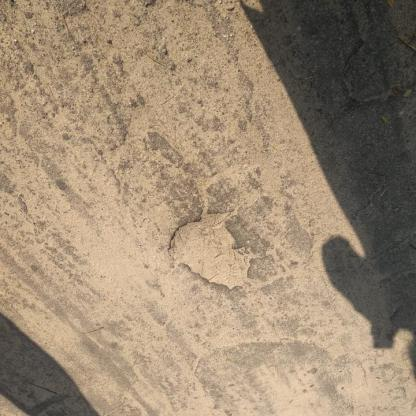pothole: (165, 212, 257, 294)
